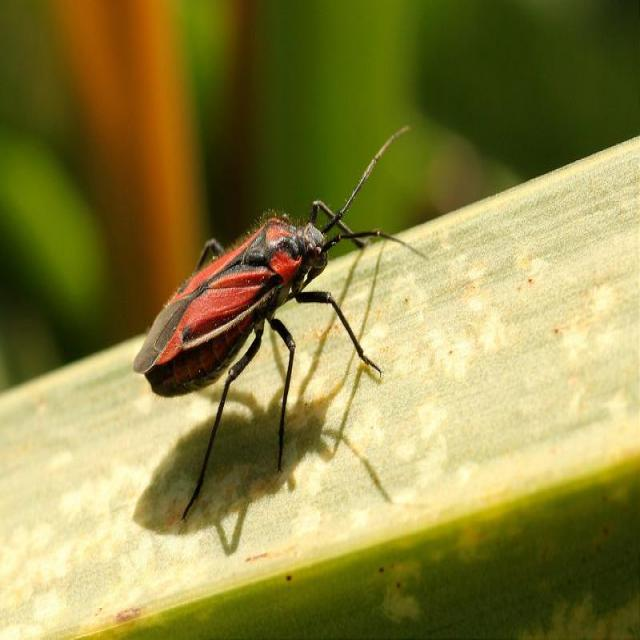Miridae-Adult-: (130, 129, 418, 526)
